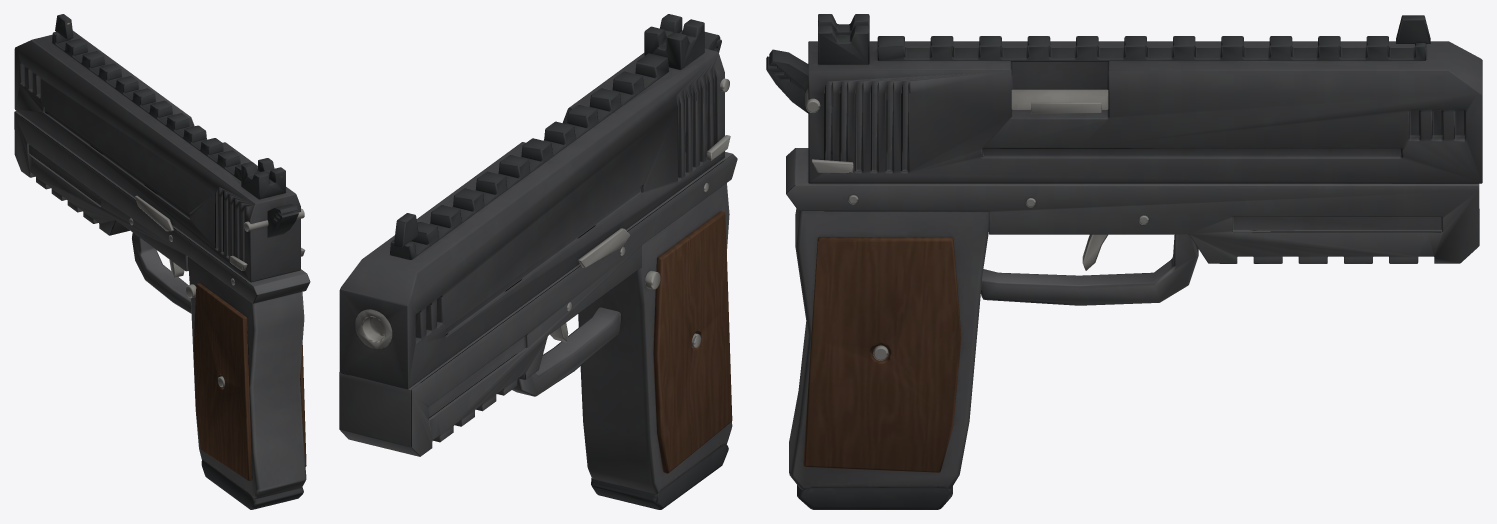
The model's file is cinghiale.glb.
3 renders of one model, left to right at view 1: azimuth 30°, elevation 25°; view 2: azimuth 150°, elevation 25°; view 3: azimuth 270°, elevation 25°, orthographic. The views are drawn at different scales.
Visible parts, largest first — view 1: cinghiale_body, cinghiale_slide, cinghiale_mag; view 2: cinghiale_body, cinghiale_slide, cinghiale_mag; view 3: cinghiale_body, cinghiale_slide, cinghiale_mag.
Part boxes in pixels (left/top/right/bottom): cinghiale_body: left=14, top=111, right=310, bottom=498; cinghiale_slide: left=14, top=14, right=300, bottom=282; cinghiale_mag: left=201, top=460, right=303, bottom=509; cinghiale_body: left=339, top=32, right=737, bottom=494; cinghiale_slide: left=339, top=14, right=724, bottom=389; cinghiale_mag: left=591, top=444, right=728, bottom=509; cinghiale_body: left=766, top=49, right=1479, bottom=489; cinghiale_slide: left=808, top=14, right=1482, bottom=183; cinghiale_mag: left=797, top=485, right=952, bottom=509.
Size of the model in its own units: 0.063 by 0.326 by 0.444.
6 materials, 6 textured.
